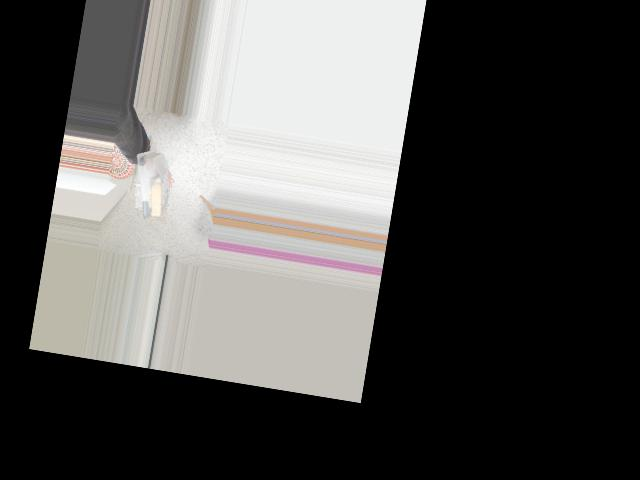cheese: (125, 149, 176, 221)
